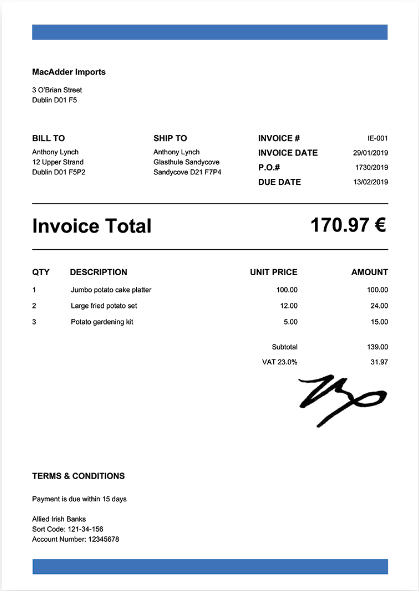Table: (29, 193, 404, 374)
